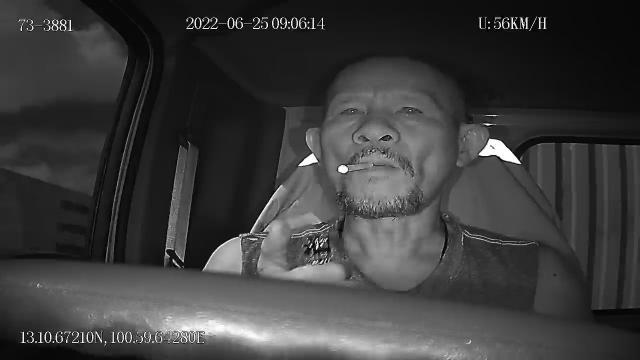SafeDriving: (389, 95, 431, 124), (331, 100, 367, 124)
Smoking: (338, 162, 374, 172)
